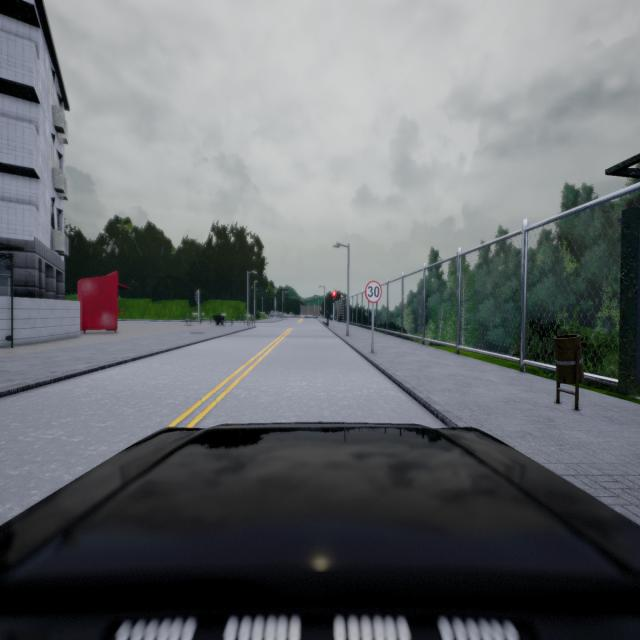Speed Limit -30-: (365, 280, 382, 304)
